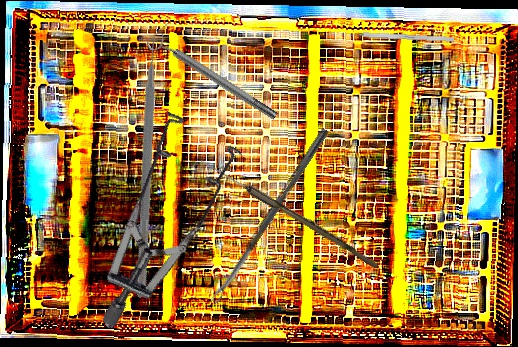Chopper: (29, 20, 282, 299)
Fixation Ring: (144, 26, 282, 128)
Hook Surgical: (341, 31, 455, 42)
Speculum: (27, 88, 286, 332)
Surgical Spoon: (209, 127, 330, 304), (198, 157, 381, 269)
